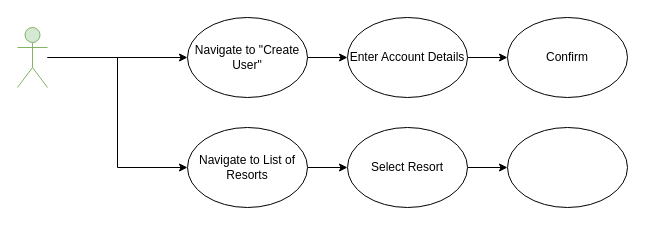
Some shapes in this 645 by 225 pixel diagram are drawn without their labels. Here are the shapes that lost their labels. From the top down, the centre of each, then its label:
At point 32,57: "Anon".
At point 567,167: "Select user that has favourited resort".
